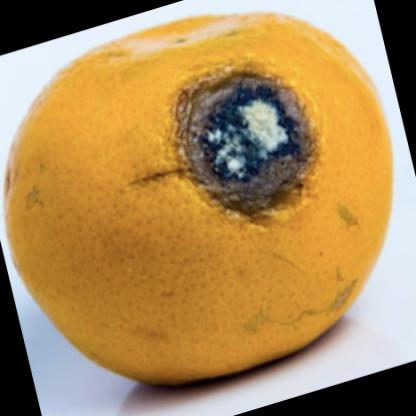rotten_orange: (2, 10, 396, 396)
